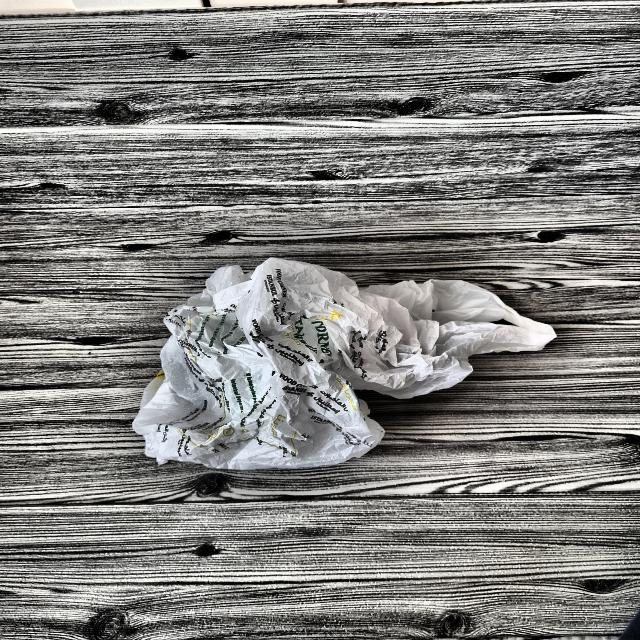plastic bag: (113, 239, 578, 491)
